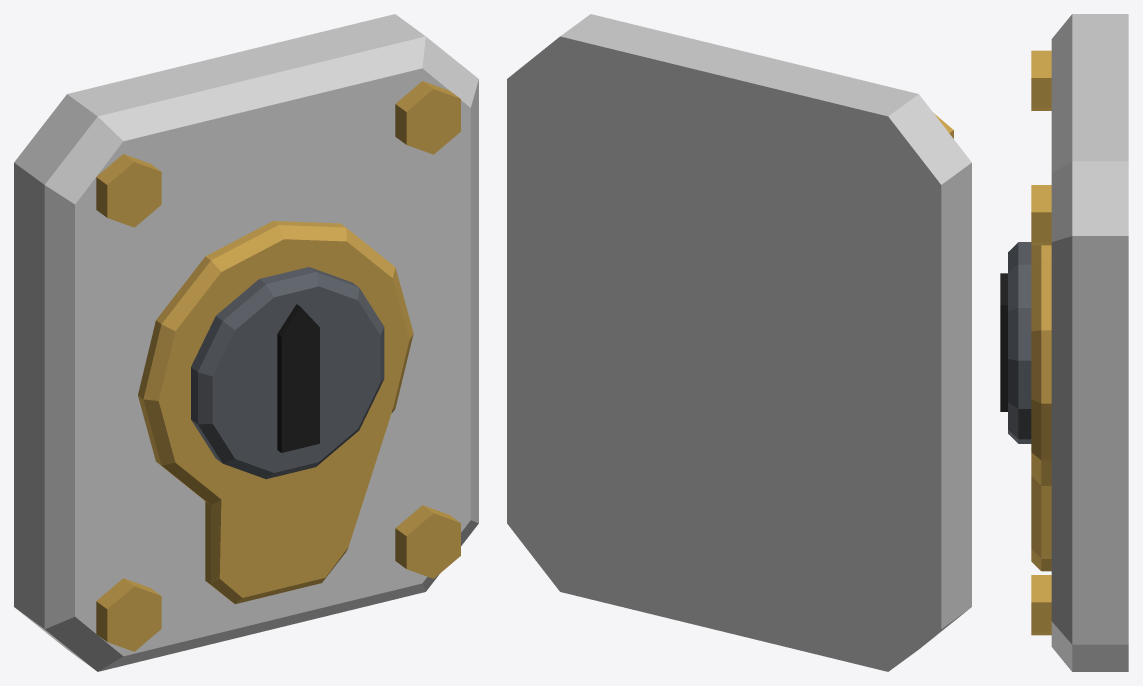
The model's file is LCK_T2.fbx.
3 renders of one model, left to right at view 1: azimuth 30°, elevation 25°; view 2: azimuth 150°, elevation 25°; view 3: azimuth 270°, elevation 25°, orthographic. The views are drawn at different scales.
Parts seen in each view (by area): view 1: Tint, Trim, Cylinder, Keyway; view 2: Tint; view 3: Tint, Trim, Cylinder, Keyway.
Part boxes in pixels (x1=…): Tint: x1=14, y1=14, x2=478, y2=671; Trim: x1=96, y1=81, x2=460, y2=651; Cylinder: x1=191, y1=267, x2=384, y2=479; Keyway: x1=277, y1=304, x2=319, y2=452; Tint: x1=507, y1=14, x2=971, y2=671; Tint: x1=1051, y1=14, x2=1128, y2=671; Trim: x1=1031, y1=50, x2=1051, y2=635; Cylinder: x1=1008, y1=242, x2=1031, y2=443; Keyway: x1=1000, y1=273, x2=1007, y2=411.
Size of the model in its own units: 1.8 by 2.2 by 0.5.
